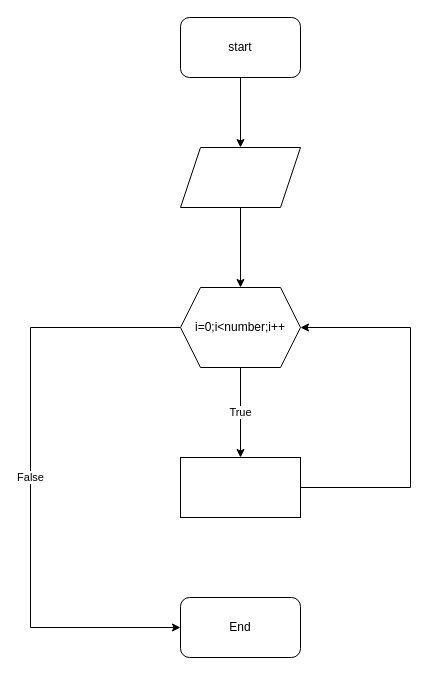
Image size: 436x675. Some labels were removed from this diagram. Here are the shapes that lost their labels. From the top down, the centre of each, then its label:
[240,177]: input number sum = 0
[240,487]: sum = i + sum
